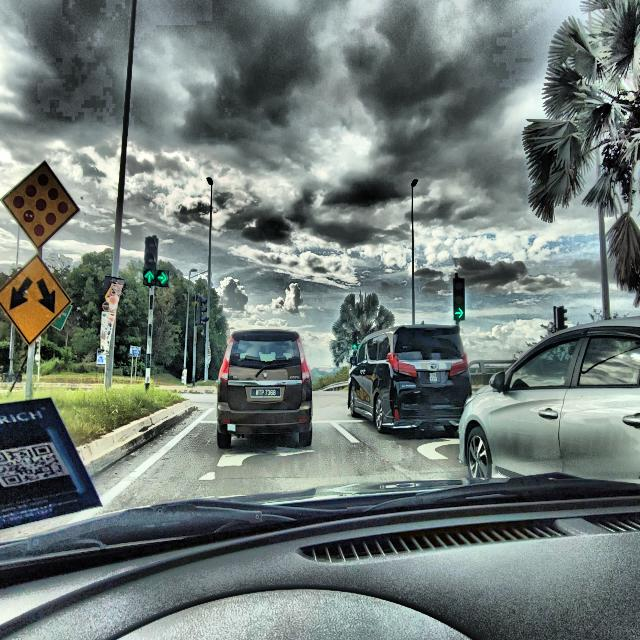green: (155, 235, 170, 287), (144, 237, 158, 285), (452, 277, 465, 322)
